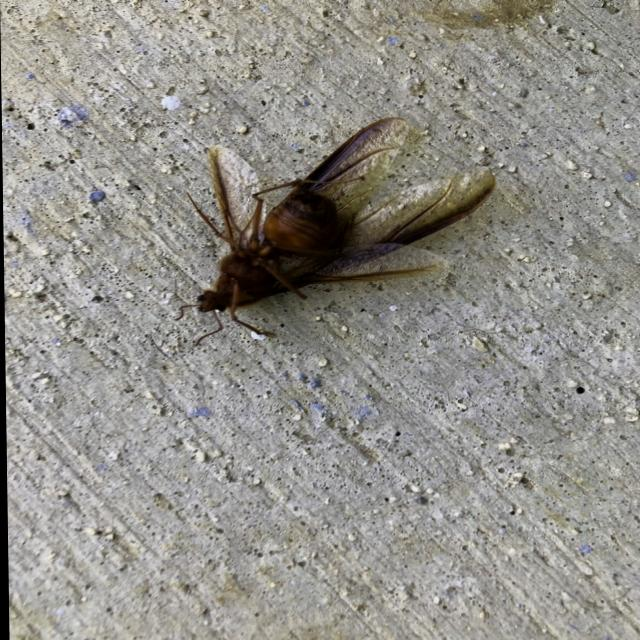Dead-Male-Alate: (171, 117, 498, 347)
